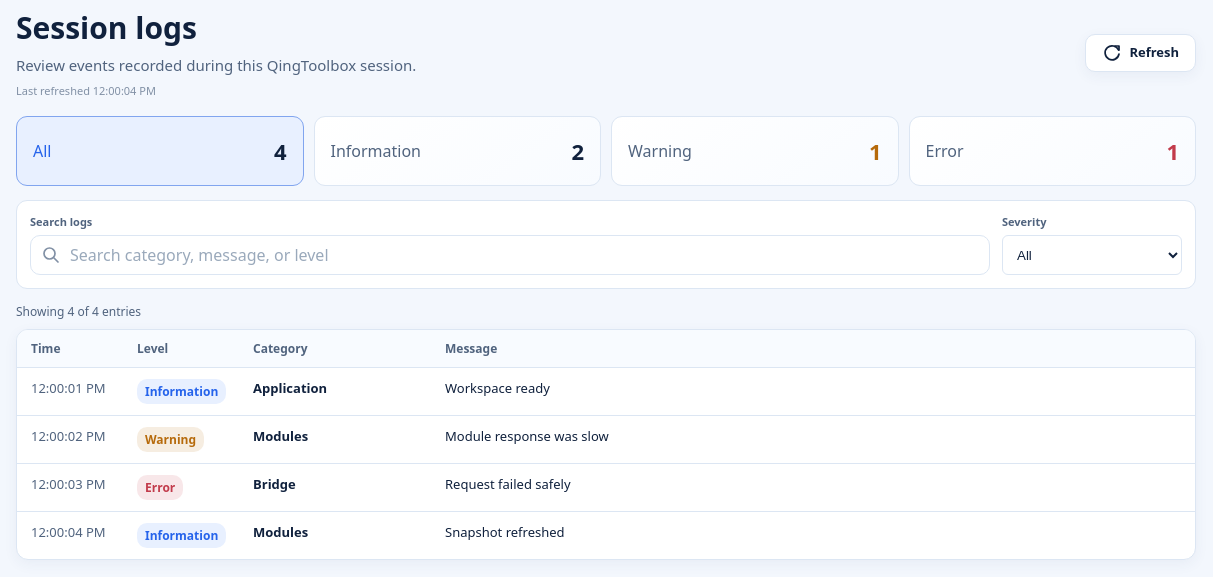
Test: LogsPage everyday workspace › filters from the severity overview
Click the button "Warning 1".
click(660, 151)  # box [611,116,898,186]
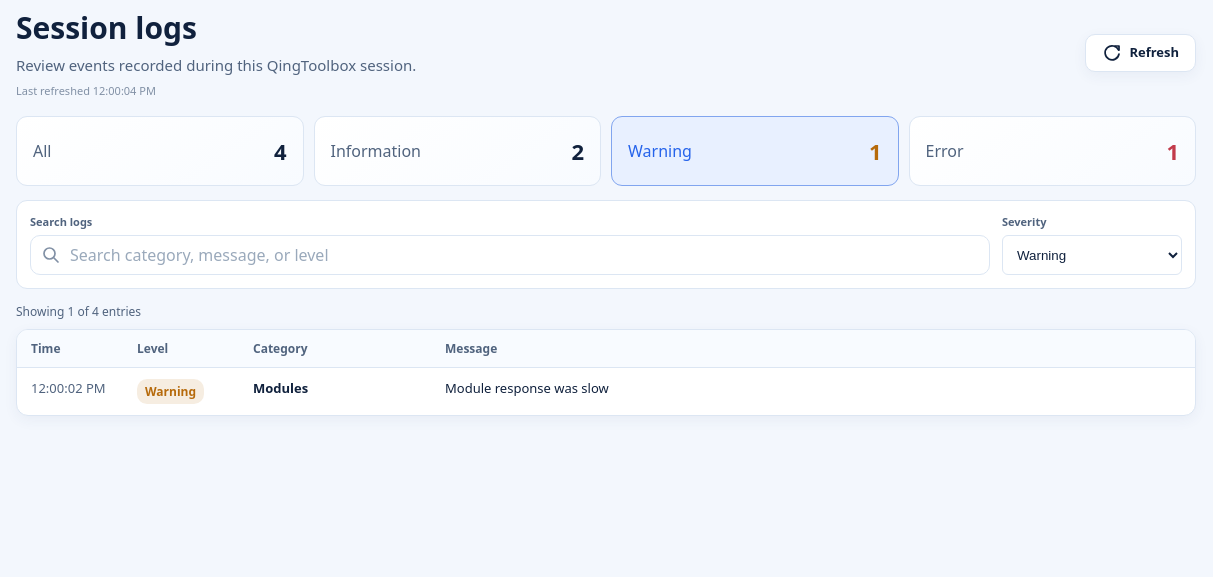
Check: the text "Module response was slow" is shown, box [445,379,609,397]
Check: the number of elements with class "logs-row" is 1, box [17,367,1195,415]
Check: the text "Request failed safely" is gone
